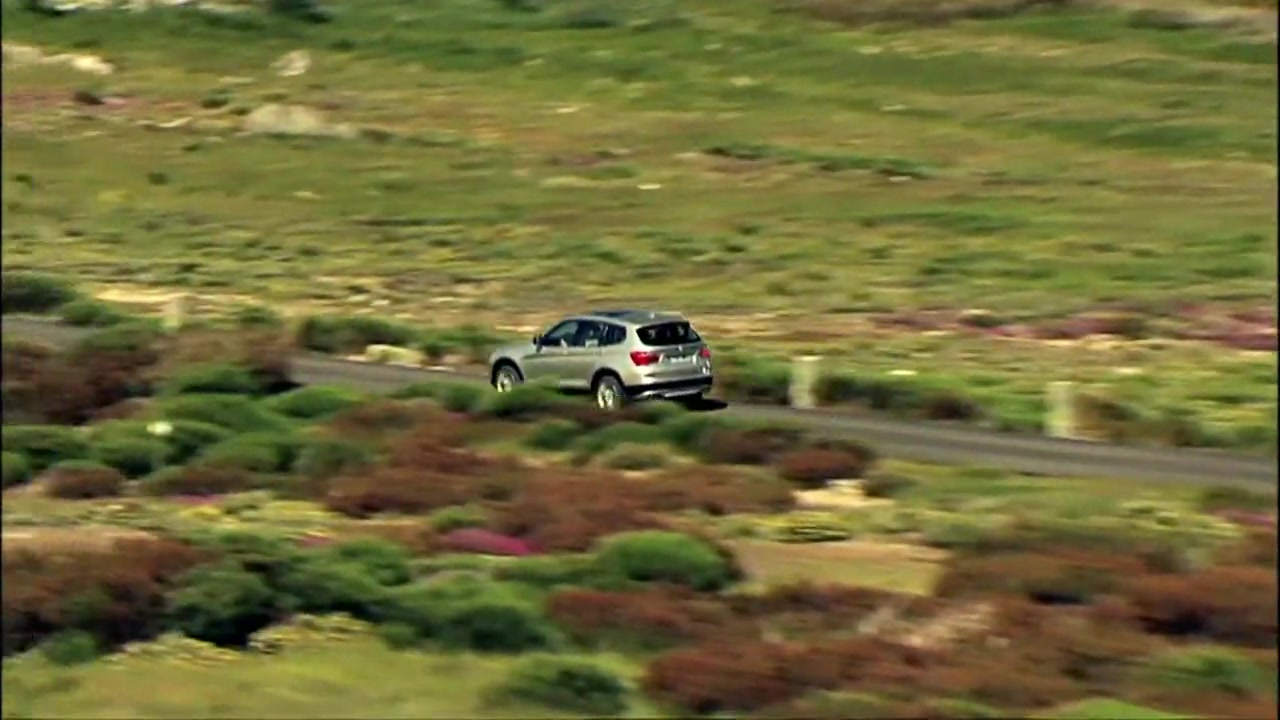car: (487, 308, 720, 422)
